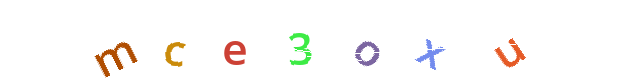3: (265, 0, 345, 80)
C: (227, 0, 307, 80)
E: (261, 0, 341, 80)
M: (75, 0, 155, 80)
O: (273, 0, 353, 80)
U: (389, 0, 469, 80)
X: (327, 0, 407, 80)
